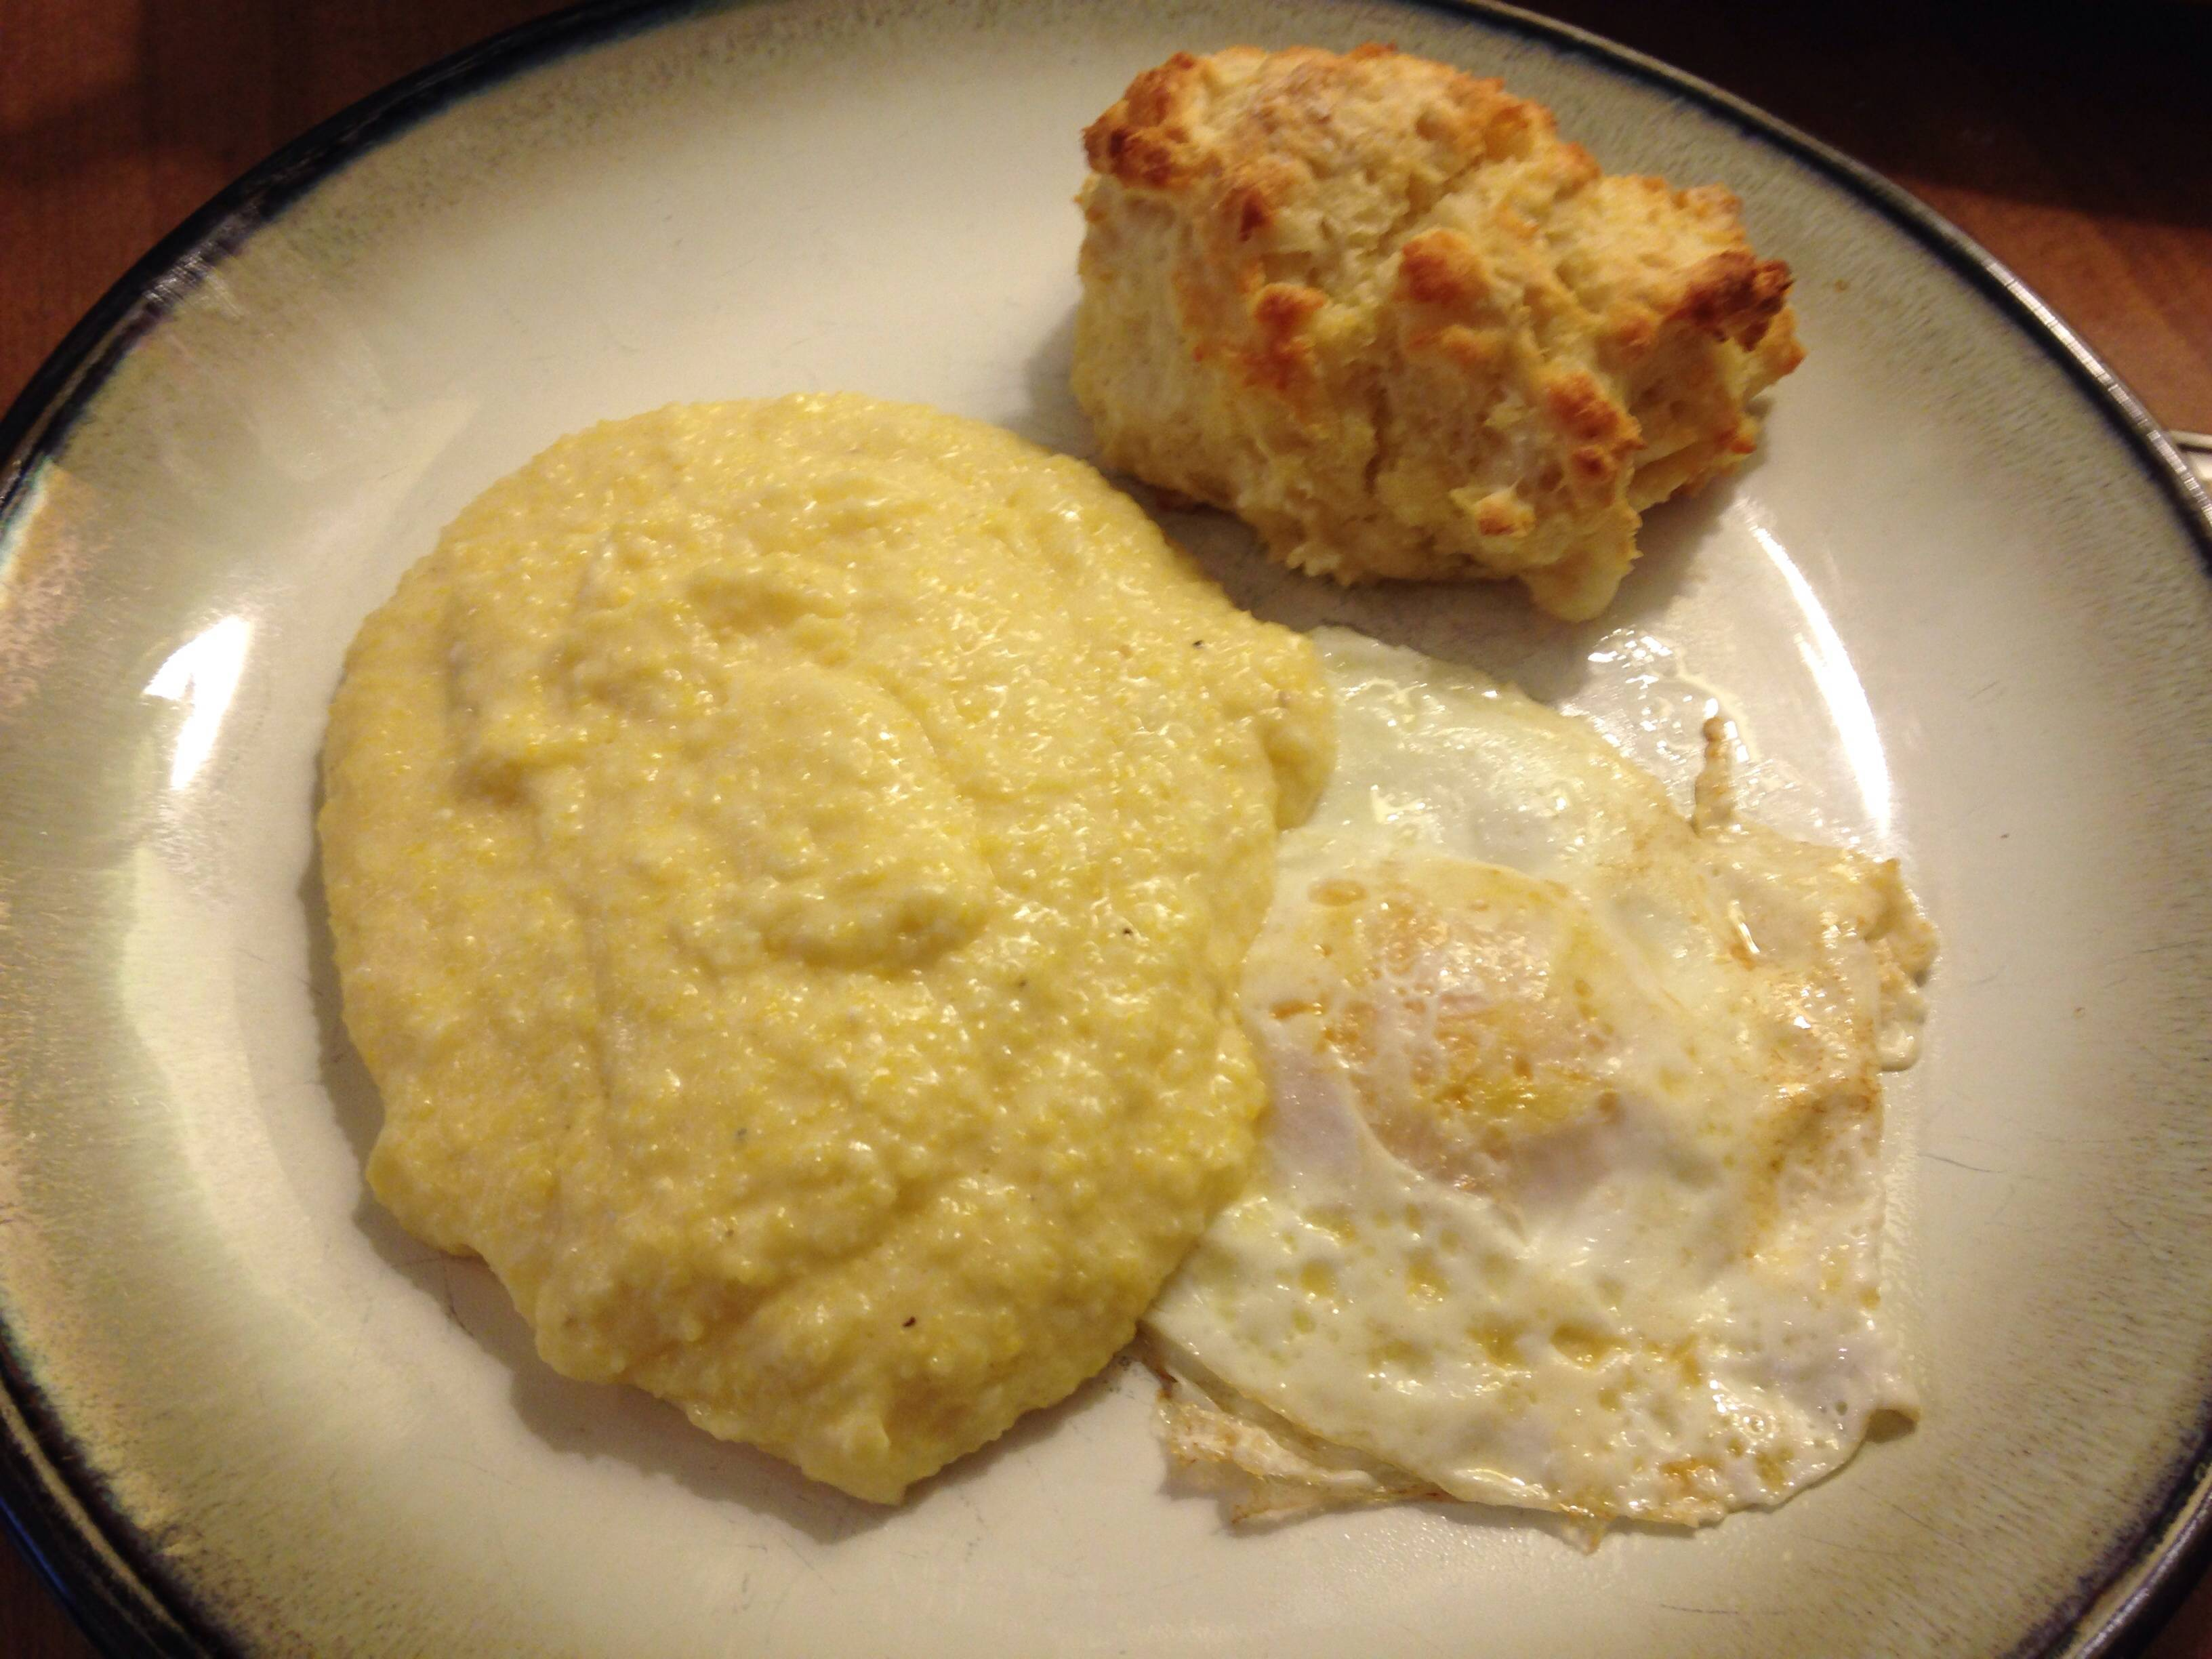boiled potatoes: (334, 401, 1247, 1549)
fried egg: (1190, 647, 1968, 1575)
